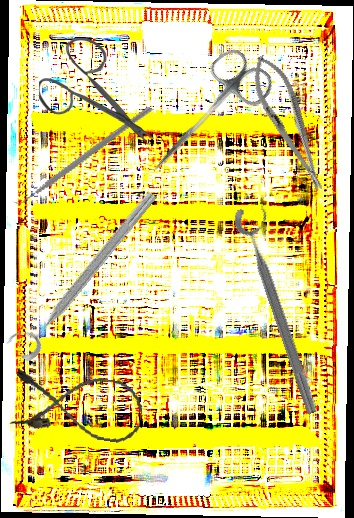Cannula: (9, 365, 146, 446)
Chopper: (5, 70, 154, 238)
Fixation Ring: (3, 180, 162, 364), (230, 201, 336, 417)
Iris Scissors: (133, 41, 279, 194), (38, 36, 156, 146)
Needle Holder: (242, 49, 336, 198)
